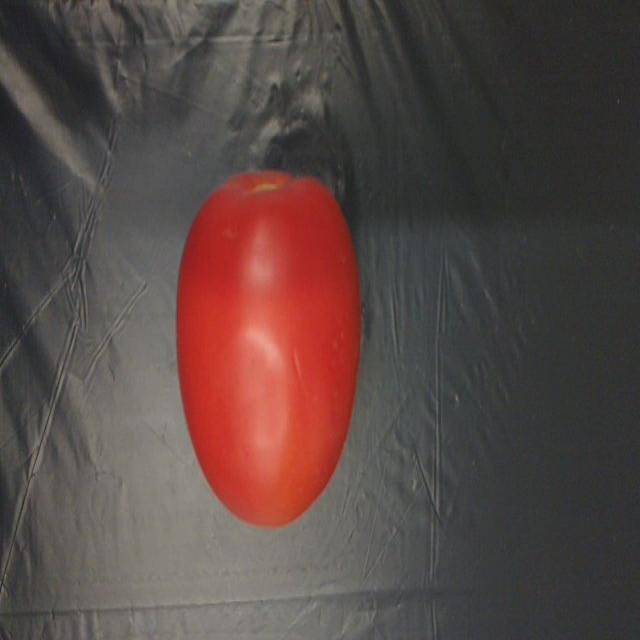kirmizi: (164, 162, 376, 533)
